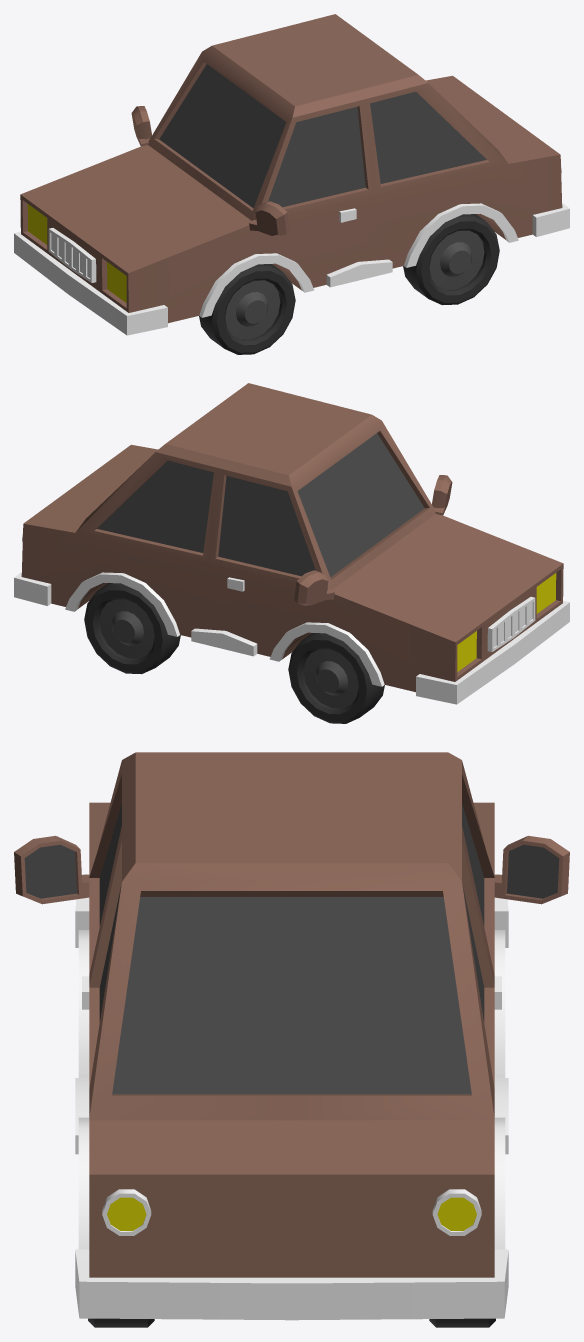
The model's file is Car.gltf.
3 renders of one model, top to bottom at view 1: azimuth 30°, elevation 25°; view 2: azimuth 150°, elevation 25°; view 3: azimuth 270°, elevation 25°, orthographic. The views are drawn at different scales.
Visible parts, largest first — view 1: CarBase, CarSilverStuff, CarWindow, WheelFL, WheelBL, MirrorL, SilverThingBack, MirrorR; view 2: CarBase, CarSilverStuff, CarWindow, WheelFR, WheelBR, MirrorR, SilverThingBack, MirrorL; view 3: CarBase, SilverThingBack, CarSilverStuff, MirrorL, MirrorR, CarWindow.
Part boxes in pixels (left/top/right/bottom): CarBase: left=20, top=14, right=562, bottom=323; CarSilverStuff: left=14, top=164, right=561, bottom=335; CarWindow: left=268, top=107, right=365, bottom=207; WheelFL: left=199, top=264, right=295, bottom=354; WheelBL: left=403, top=214, right=499, bottom=305; MirrorL: left=249, top=201, right=289, bottom=236; SilverThingBack: left=532, top=203, right=569, bottom=236; MirrorR: left=131, top=106, right=151, bottom=146; CarBase: left=21, top=383, right=563, bottom=692; CarSilverStuff: left=22, top=533, right=569, bottom=704; CarWindow: left=218, top=476, right=315, bottom=576; WheelFR: left=288, top=633, right=384, bottom=723; WheelBR: left=84, top=583, right=180, bottom=674; MirrorR: left=294, top=570, right=334, bottom=605; SilverThingBack: left=14, top=572, right=51, bottom=605; MirrorL: left=432, top=475, right=452, bottom=515; CarBase: left=89, top=752, right=494, bottom=1277; SilverThingBack: left=75, top=1249, right=508, bottom=1320; CarSilverStuff: left=75, top=874, right=508, bottom=1249; MirrorL: left=14, top=835, right=89, bottom=904; MirrorR: left=494, top=835, right=569, bottom=904; CarWindow: left=99, top=804, right=484, bottom=926.
Size of the model in its own units: 6.69 by 3.28 by 3.84.
